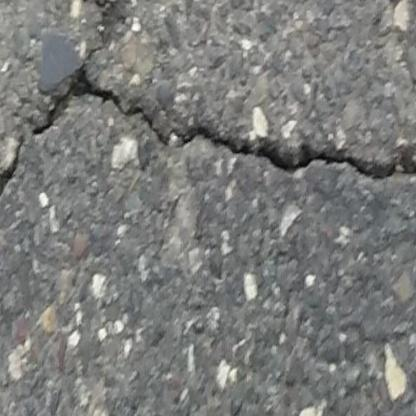Cracks: (0, 0, 416, 216)
